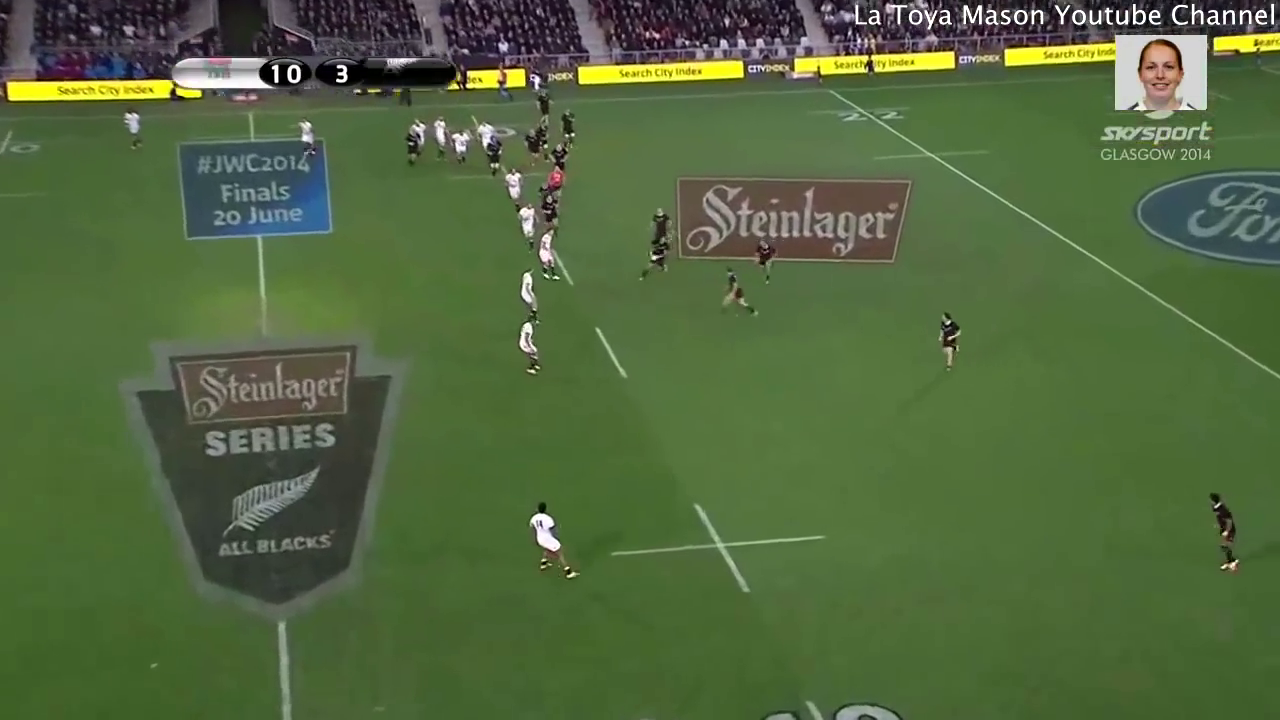10_metre: (601, 498, 833, 603)
player: (1197, 487, 1249, 583), (526, 496, 581, 580), (714, 265, 763, 324), (929, 304, 968, 374), (512, 264, 545, 332), (511, 317, 549, 376), (535, 223, 565, 290), (635, 238, 674, 284), (749, 224, 778, 285), (643, 208, 681, 252), (119, 104, 146, 155), (513, 202, 539, 253), (293, 115, 318, 161), (531, 180, 558, 219), (428, 111, 449, 160), (498, 166, 524, 205), (401, 126, 422, 173), (557, 108, 583, 145), (531, 87, 553, 128), (407, 116, 428, 155), (521, 129, 544, 164), (449, 128, 465, 168), (484, 135, 501, 172), (472, 120, 491, 148)
